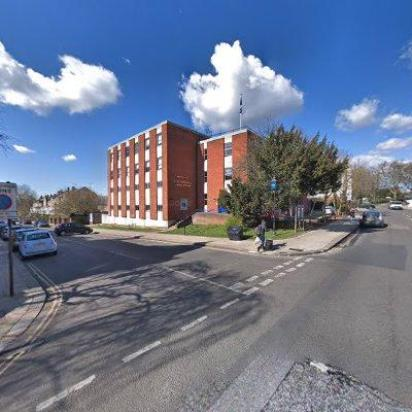moving-car: (54, 221, 96, 237), (358, 210, 384, 228)
stationary-car-onstreet: (16, 228, 58, 262), (31, 215, 48, 227)
stationary-light-truck-onstreet: (388, 199, 402, 211)
